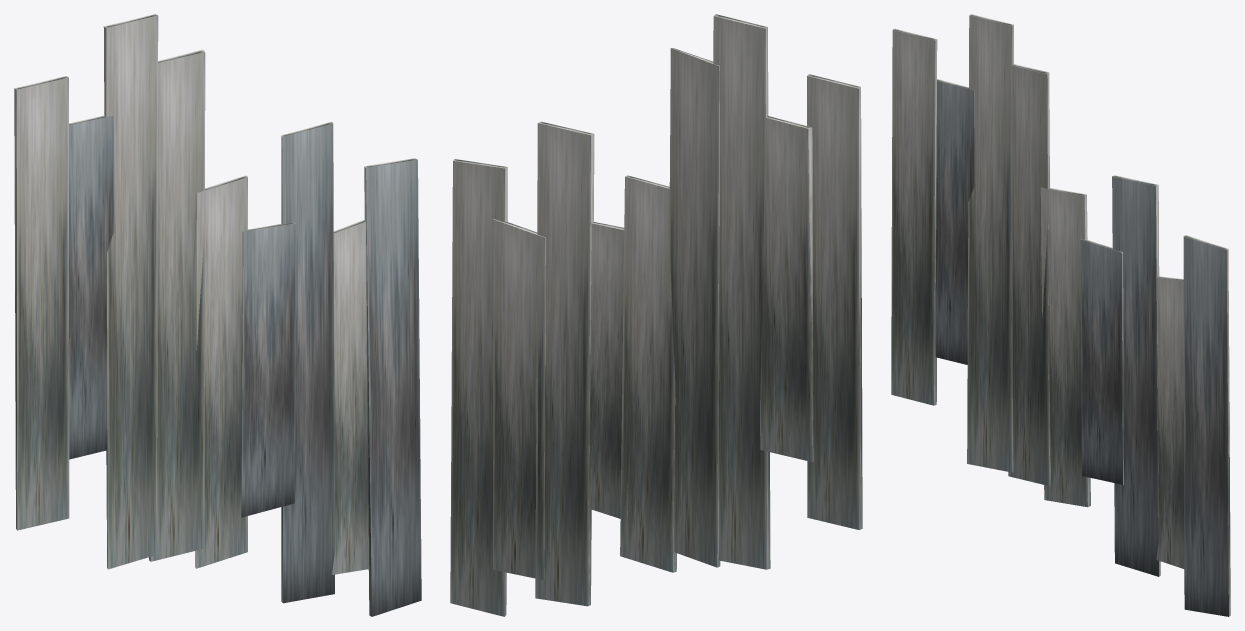
Rendered from solid_metal_10x5_steep.DAE.
3 renders of one model, left to right at view 1: azimuth 30°, elevation 25°; view 2: azimuth 150°, elevation 25°; view 3: azimuth 330°, elevation 25°, orthographic. The views are drawn at different scales.
Visible parts, largest first — view 1: Object006; view 2: Object006; view 3: Object006.
Part boxes in pixels (x1,y1,x2,y2): Object006: (14,14,421,616); Object006: (450,14,862,616); Object006: (891,14,1230,616).
Bounding box in the file's own units: 12.11 × 18.56 × 0.3448.
